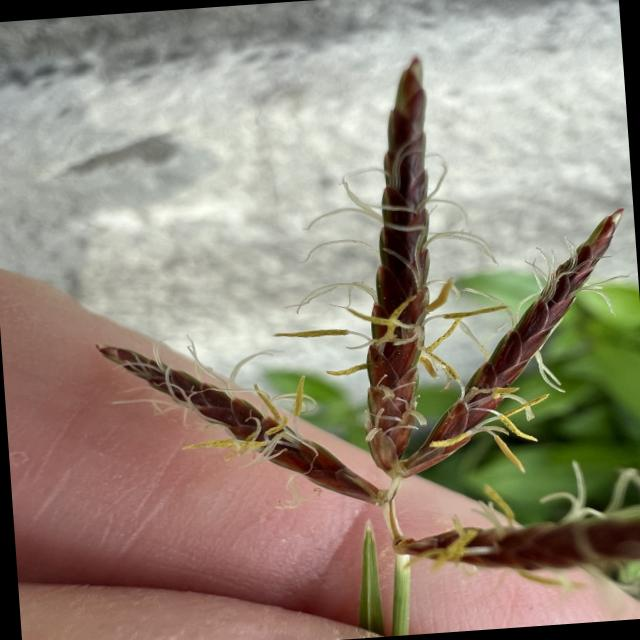cyperus: (62, 27, 640, 534)
